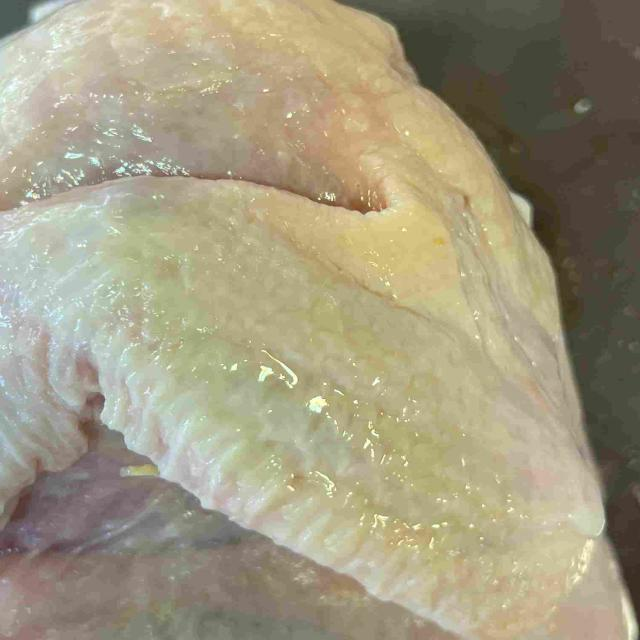wing: (0, 181, 603, 636)
